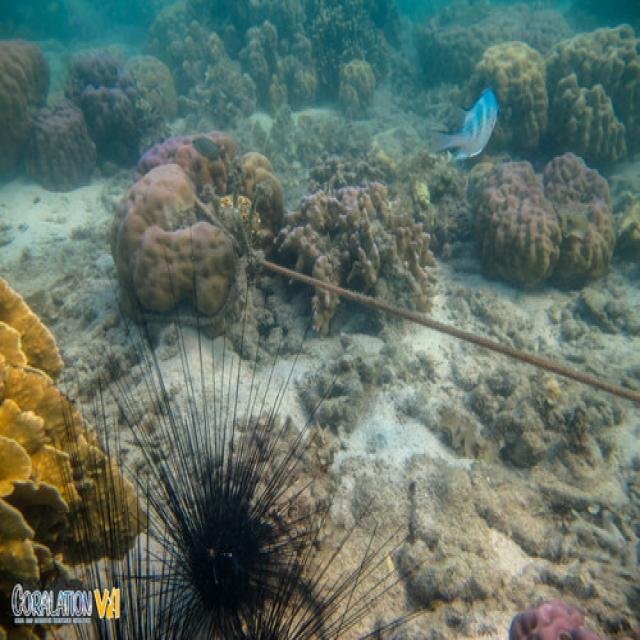Urchin: (113, 232, 330, 620)
